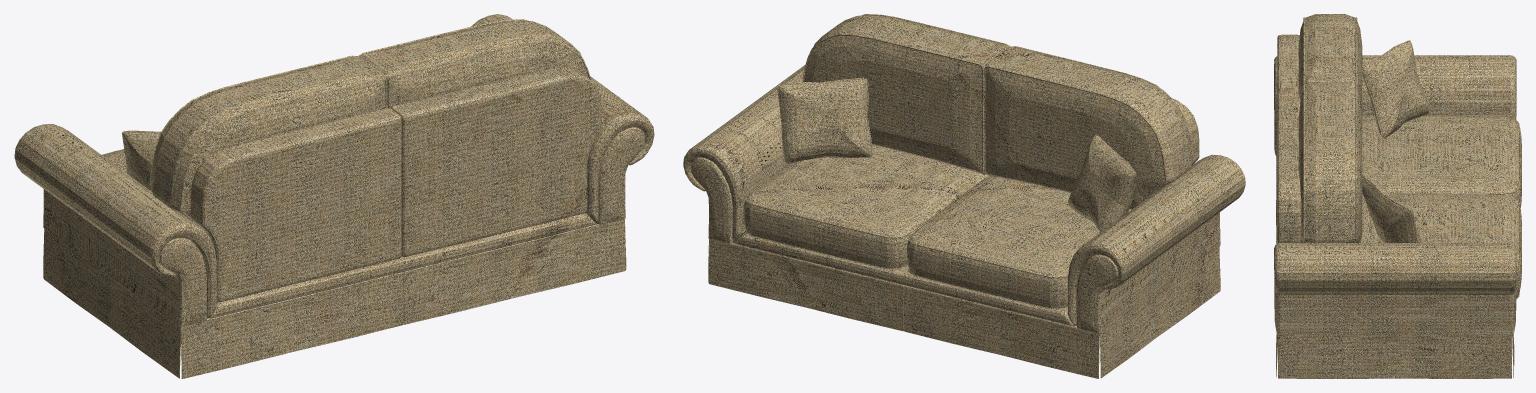
3 views of the same model, side by side, from view 1: azimuth 30°, elevation 25°; view 2: azimuth 150°, elevation 25°; view 3: azimuth 270°, elevation 25° (orthographic). The views are drawn at different scales.
Parts seen in each view (by area): view 1: mesh24_mesh24-geometry, mesh27_mesh27-geometry, mesh10_mesh10-geometry, mesh22_mesh22-geometry, mesh23_mesh23-geometry, mesh26_mesh26-geometry, mesh18_mesh18-geometry, mesh25_mesh25-geometry, mesh19_mesh19-geometry, mesh16_mesh16-geometry, mesh15_mesh15-geometry, mesh21_mesh21-geometry (+1 smaller); view 2: mesh23_mesh23-geometry, mesh26_mesh26-geometry, mesh1_mesh1-geometry, mesh8_mesh8-geometry, mesh11_mesh11-geometry, mesh22_mesh22-geometry, mesh25_mesh25-geometry, mesh6_mesh6-geometry, mesh18_mesh18-geometry, mesh19_mesh19-geometry, mesh16_mesh16-geometry, mesh14_mesh14-geometry (+5 smaller); view 3: mesh25_mesh25-geometry, mesh11_mesh11-geometry, mesh9_mesh9-geometry, mesh26_mesh26-geometry, mesh22_mesh22-geometry, mesh1_mesh1-geometry, mesh23_mesh23-geometry, mesh16_mesh16-geometry, mesh27_mesh27-geometry, mesh6_mesh6-geometry, mesh24_mesh24-geometry, mesh4_mesh4-geometry (+3 smaller).
Boxes of the visible parts, x1,y1,x2,y2 form: mesh24_mesh24-geometry: [190, 108, 401, 302]; mesh27_mesh27-geometry: [391, 67, 601, 256]; mesh10_mesh10-geometry: [181, 219, 625, 378]; mesh22_mesh22-geometry: [14, 124, 217, 327]; mesh23_mesh23-geometry: [150, 56, 385, 218]; mesh26_mesh26-geometry: [359, 20, 588, 109]; mesh18_mesh18-geometry: [43, 229, 180, 378]; mesh25_mesh25-geometry: [471, 14, 654, 224]; mesh19_mesh19-geometry: [208, 213, 595, 318]; mesh16_mesh16-geometry: [123, 130, 160, 191]; mesh15_mesh15-geometry: [179, 78, 387, 224]; mesh21_mesh21-geometry: [180, 218, 625, 326]; mesh23_mesh23-geometry: [985, 46, 1192, 208]; mesh26_mesh26-geometry: [804, 15, 1008, 174]; mesh1_mesh1-geometry: [743, 145, 988, 268]; mesh8_mesh8-geometry: [708, 239, 1099, 378]; mesh11_mesh11-geometry: [907, 176, 1130, 308]; mesh22_mesh22-geometry: [1067, 154, 1245, 333]; mesh25_mesh25-geometry: [683, 65, 805, 243]; mesh6_mesh6-geometry: [778, 78, 871, 162]; mesh18_mesh18-geometry: [1099, 247, 1220, 378]; mesh19_mesh19-geometry: [734, 232, 1074, 326]; mesh16_mesh16-geometry: [1068, 135, 1137, 232]; mesh14_mesh14-geometry: [984, 65, 1166, 209]; mesh25_mesh25-geometry: [1274, 243, 1516, 334]; mesh11_mesh11-geometry: [1362, 115, 1521, 207]; mesh9_mesh9-geometry: [1278, 334, 1511, 378]; mesh26_mesh26-geometry: [1298, 82, 1362, 242]; mesh22_mesh22-geometry: [1274, 55, 1516, 156]; mesh1_mesh1-geometry: [1361, 193, 1521, 297]; mesh23_mesh23-geometry: [1298, 14, 1362, 118]; mesh16_mesh16-geometry: [1362, 41, 1429, 137]; mesh27_mesh27-geometry: [1277, 107, 1301, 243]; mesh6_mesh6-geometry: [1362, 176, 1423, 242]; mesh24_mesh24-geometry: [1277, 34, 1300, 110]; mesh4_mesh4-geometry: [1355, 84, 1357, 242].
Bounding box in the file's own units: 0.8295 × 0.3771 × 0.4119.
